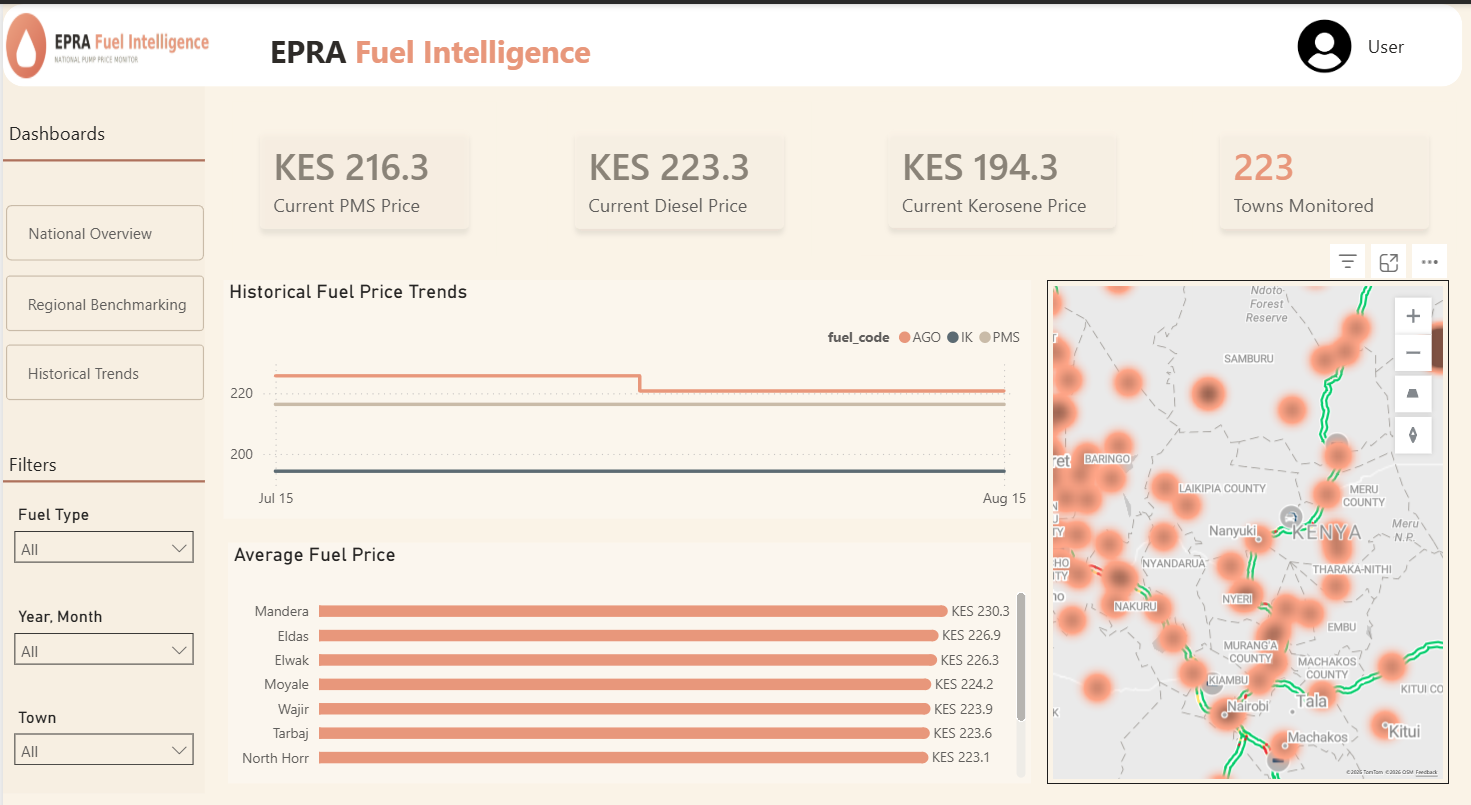

The page's visual inventory and layout, read from the dashboard file:
{"tool":"powerbi","page":{"name":"Executive Dashboard","canvas":[1280,720],"ordinal":0},"visuals":[{"type":"shape","box":[0,0,176,688],"z":0},{"type":"shape","box":[0,0,1271.4,56.3],"z":1000},{"type":"textbox","box":[186.7,4.8,325.1,51.5],"z":2000},{"type":"textbox","box":[0,96,128,32],"z":3000},{"type":"shape","box":[0,120,176,32],"z":4000},{"type":"textbox","box":[0,384,128,32],"z":5000},{"type":"shape","box":[0,400,176,32],"z":6000},{"type":"slicer","fields":{"Values":["dim_fuel.fuel_code"]},"box":[0,432,176,64],"z":7000},{"type":"slicer","fields":{"Values":["dim_date.YearMonth"]},"box":[0,520,176,64],"z":8000},{"type":"slicer","fields":{"Values":["dim_location.town"]},"box":[0,608,176,64],"z":9000},{"type":"image","box":[1113.7,6.4,70.8,45.1],"z":10000},{"type":"textbox","box":[1184.1,19.7,46.9,36.3],"z":11000},{"type":"image","box":[0,0,186.7,56.3],"z":12000},{"type":"cardVisual","fields":{"Data":["_measures.Current Average Price"]},"box":[175.4,67.6,191.5,99.8],"z":13000},{"type":"cardVisual","fields":{"Data":["_measures.Current Kerosene Price"]},"box":[1060.6,67.6,204.4,99.8],"z":14000},{"type":"cardVisual","fields":{"Data":["_measures.Current Diesel Price"]},"box":[780.6,67.6,177,99.8],"z":15000},{"type":"cardVisual","fields":{"Data":["_measures.Current PMS Price"]},"box":[484.4,67.6,178.6,99.8],"z":16000},{"type":"cardVisual","fields":{"Data":["_measures.MoM Change Average %"]},"box":[186.4,591.4,214.1,95],"z":17000},{"type":"cardVisual","fields":{"Data":["_measures.MoM Change Kerosene %"]},"box":[946.5,592.8,237.7,95.4],"z":18000},{"type":"cardVisual","fields":{"Data":["_measures.MoM Change Diesel %"]},"box":[670.6,591.4,198,95],"z":19000},{"type":"cardVisual","fields":{"Data":["_measures.MoM Change PMS %"]},"box":[434.4,591.4,201.2,88.5],"z":20000},{"type":"gauge","title":"Current PMS Price","fields":{"MaxValue":["_measures.Max Price"],"MinValue":["_measures.Min PMS Price"],"Y":["_measures.Current PMS Price"]},"box":[535.9,191.5,294.5,136.8],"z":21000},{"type":"gauge","title":"Current Diesel Price","fields":{"MaxValue":["_measures.Max Diesel Price"],"MinValue":["_measures.Min Diesel Price"],"Y":["_measures.Current Diesel Price"]},"box":[206,191.5,286.5,136.8],"z":22000},{"type":"gauge","title":"Current Kerosene Price","fields":{"MaxValue":["_measures.Max Kerosene Price"],"MinValue":["_measures.Min Price"],"Y":["_measures.Current Kerosene Price"]},"box":[907.7,191.5,289.7,136.8],"z":23000},{"type":"areaChart","title":"Top 10 Towns: Largest MoM Price Drops (%)","fields":{"Category":["dim_location.town"],"Y":["_measures.MoM Change Average %"]},"box":[186.7,344.4,1044.5,228.5],"z":24000},{"type":"pageNavigator","box":[0,167.3,176.1,206.9],"z":25000}]}

Visuals, with their boxes in screenshot pixels (x1, y1, x2, y2), scaled from the page's 1280x720 canvas onto the 1471x805 screenshot:
shape: Rect(0, 0, 202, 769)
shape: Rect(0, 0, 1461, 63)
textbox: Rect(215, 5, 588, 63)
textbox: Rect(0, 107, 147, 143)
shape: Rect(0, 134, 202, 170)
textbox: Rect(0, 429, 147, 465)
shape: Rect(0, 447, 202, 483)
slicer - dim_fuel.fuel_code: Rect(0, 483, 202, 555)
slicer - dim_date.YearMonth: Rect(0, 581, 202, 653)
slicer - dim_location.town: Rect(0, 680, 202, 751)
image: Rect(1280, 7, 1361, 58)
textbox: Rect(1361, 22, 1415, 63)
image: Rect(0, 0, 215, 63)
cardVisual - _measures.Current Average Price: Rect(202, 76, 422, 187)
cardVisual - _measures.Current Kerosene Price: Rect(1219, 76, 1454, 187)
cardVisual - _measures.Current Diesel Price: Rect(897, 76, 1100, 187)
cardVisual - _measures.Current PMS Price: Rect(557, 76, 762, 187)
cardVisual - _measures.MoM Change Average %: Rect(214, 661, 460, 767)
cardVisual - _measures.MoM Change Kerosene %: Rect(1088, 663, 1361, 769)
cardVisual - _measures.MoM Change Diesel %: Rect(771, 661, 998, 767)
cardVisual - _measures.MoM Change PMS %: Rect(499, 661, 730, 760)
"Current PMS Price" gauge: Rect(616, 214, 954, 367)
"Current Diesel Price" gauge: Rect(237, 214, 566, 367)
"Current Kerosene Price" gauge: Rect(1043, 214, 1376, 367)
"Top 10 Towns: Largest MoM Price Drops (%)" areaChart: Rect(215, 385, 1415, 641)
pageNavigator: Rect(0, 187, 202, 418)
